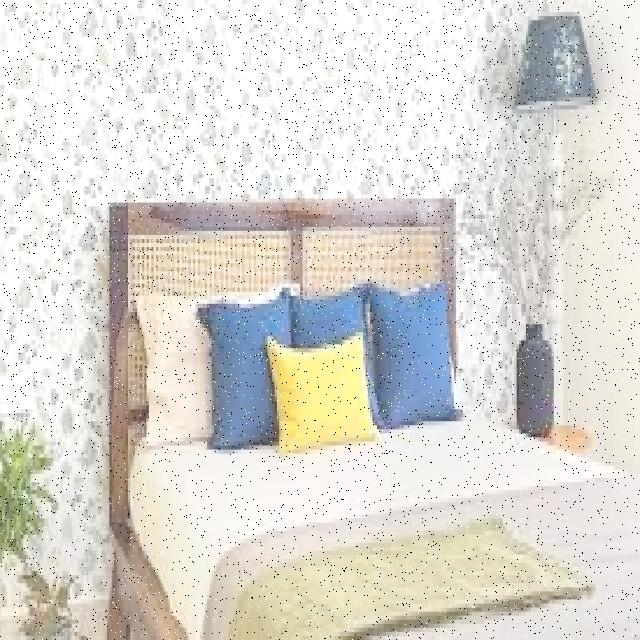bed: (102, 180, 640, 640)
